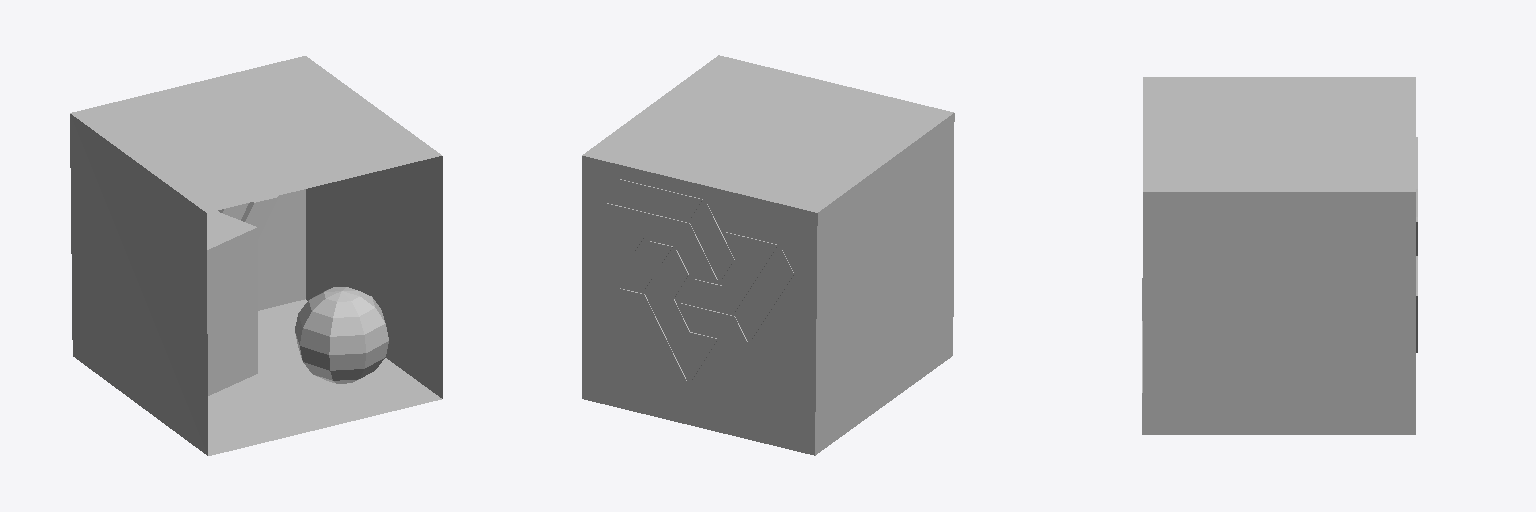
The model's file is modified2.obj.
The picture shows the model from 3 angles: view 1: azimuth 30°, elevation 25°; view 2: azimuth 150°, elevation 25°; view 3: azimuth 270°, elevation 25°; orthographic projection.
Visible parts, largest first — view 1: left_wall, ceiling, right_wall, floor, tall_box, sphere, back_wall, logo.001; view 2: back_wall, left_wall, ceiling, logo.001; view 3: right_wall, ceiling.
Part boxes in pixels (left/top/right/bottom): left_wall: left=70, top=114, right=207, bottom=455; ceiling: left=70, top=56, right=441, bottom=212; right_wall: left=306, top=156, right=442, bottom=398; floor: left=208, top=299, right=441, bottom=455; tall_box: left=207, top=211, right=257, bottom=395; sphere: left=295, top=287, right=388, bottom=383; back_wall: left=258, top=189, right=305, bottom=310; logo.001: left=218, top=196, right=278, bottom=238; back_wall: left=582, top=156, right=817, bottom=455; left_wall: left=815, top=113, right=954, bottom=455; ceiling: left=582, top=55, right=953, bottom=212; logo.001: left=605, top=179, right=793, bottom=381; right_wall: left=1142, top=192, right=1415, bottom=434; ceiling: left=1143, top=77, right=1415, bottom=191.
Size of the model in its own units: 5.56 by 5.49 by 5.62.